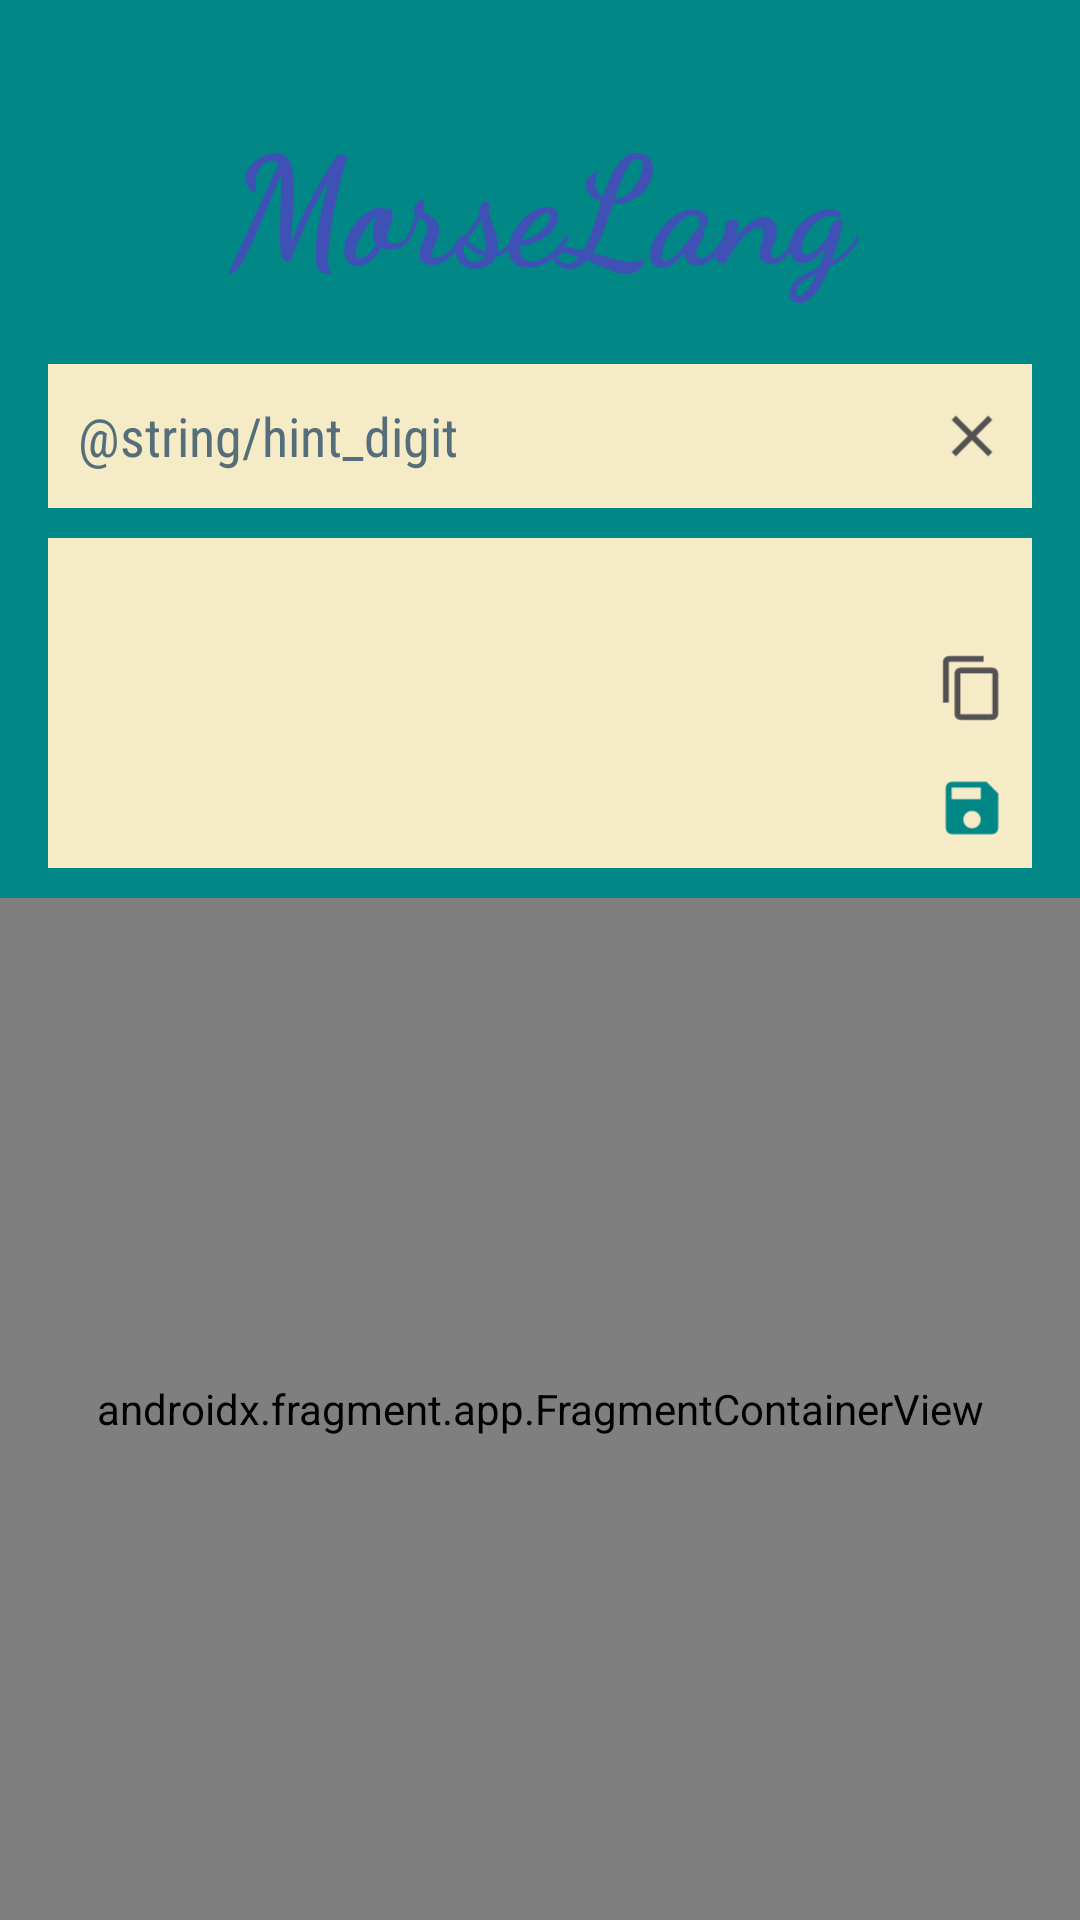

Named icons in this screenshot (1080w x 1920h) and their bounding boxes, [x1=x1, y1=y1, x2=x2, y2=y2]:
clear: [x1=951, y1=415, x2=993, y2=457]
save: [x1=945, y1=781, x2=999, y2=835]
